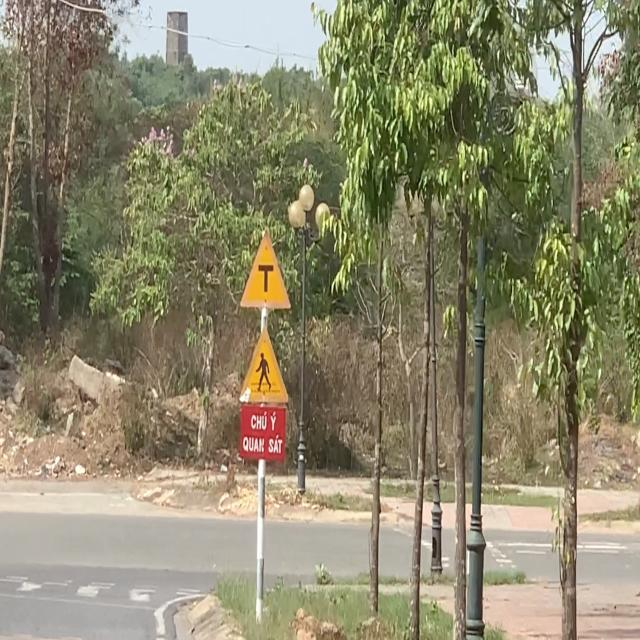Duong giao nhau: (239, 229, 292, 309)
Nguoi di bo cat ngang: (239, 323, 289, 404)
